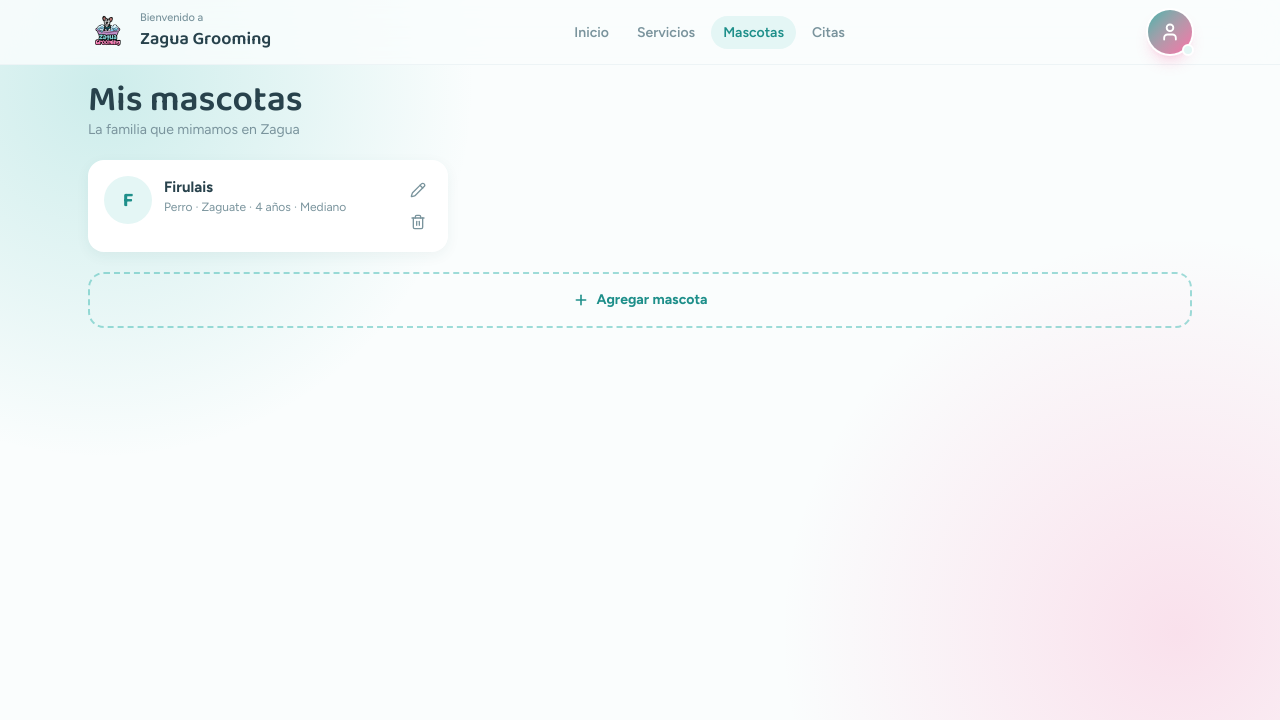
Scenario: Editar mascota › cambia el nombre de Firulais a Rex
The width and height of the screenshot is (1280, 720).
Expected: the heading "Firulais" is shown, [164,178,213,196]
Click the button named "Editar": (418, 190) [404,176,432,204]
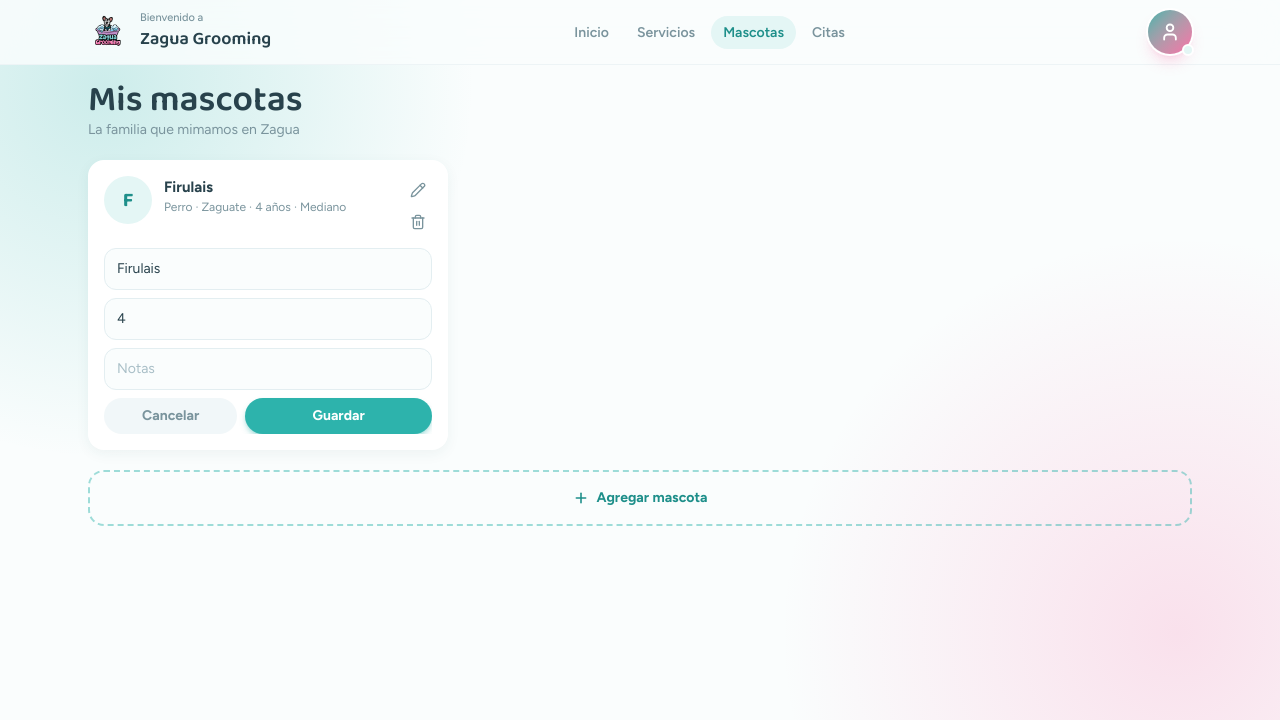
Scroll
Replace the text in the field with placeholder "Nombre" with "Rex": (268, 269) [104,248,432,290]
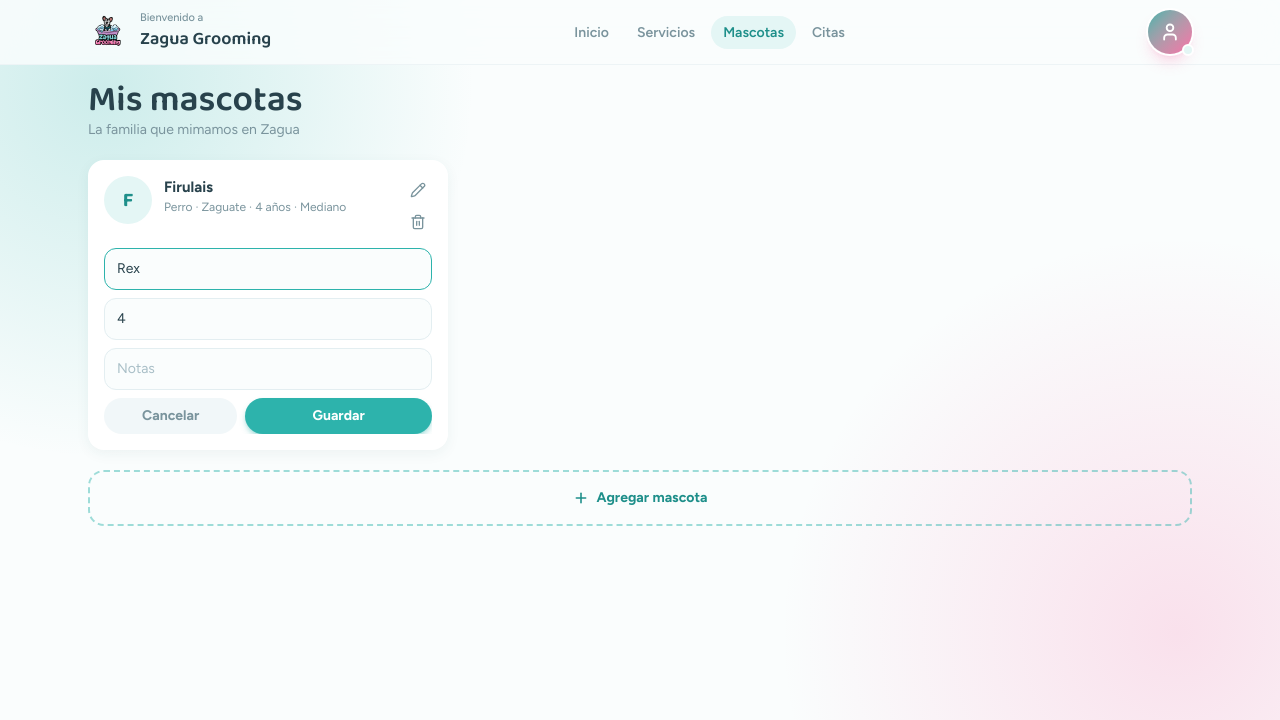
Click the button "Guardar": (339, 416) [245,398,432,434]
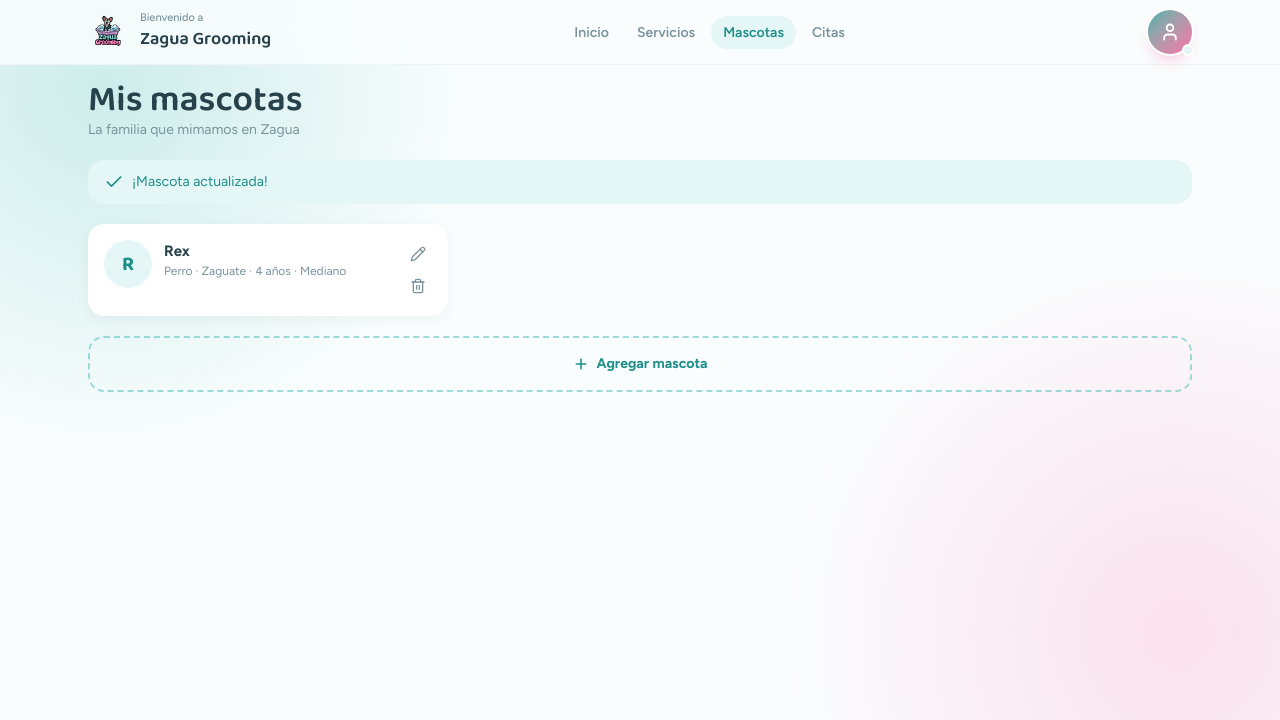
Expected: the text "¡Mascota actualizada!" is shown, [88,160,1192,204]
Expected: the heading "Rex" is shown, [164,242,190,260]
Expected: the heading "Firulais" is gone
